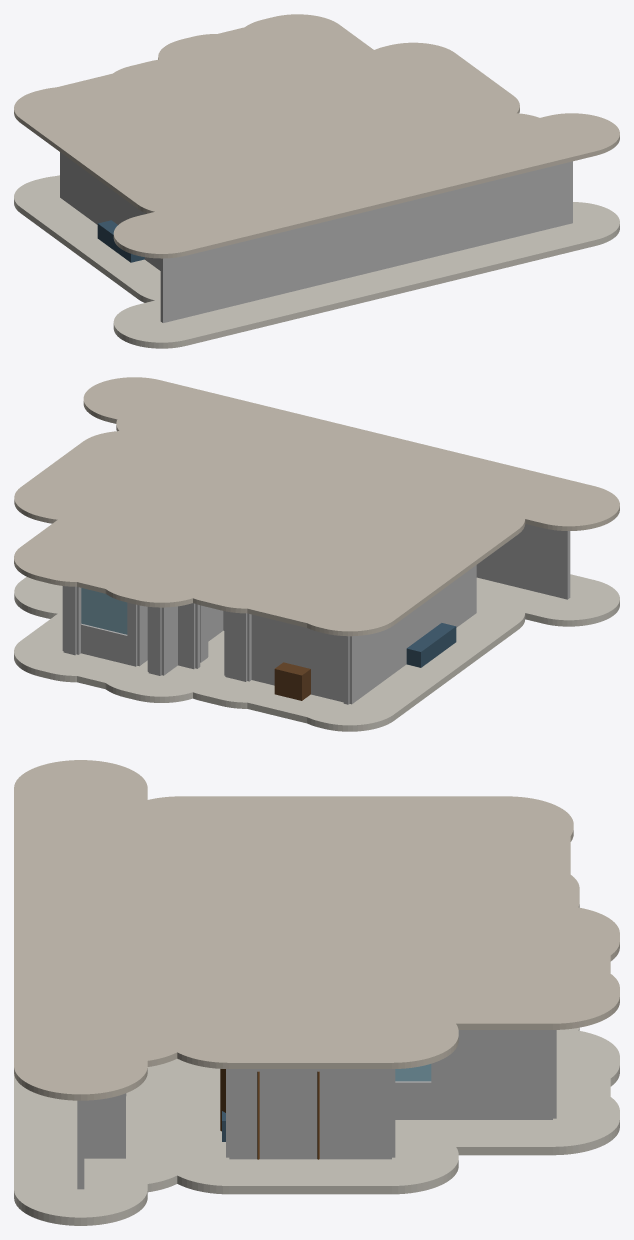
File: house_model.obj
The picture shows the model from 3 angles, top to bottom: view 1: azimuth 30°, elevation 25°; view 2: azimuth 150°, elevation 25°; view 3: azimuth 270°, elevation 25°; orthographic projection. The views are drawn at different scales.
Visible parts, largest first — view 1: geometry_1, geometry_0, geometry_384, geometry_385, geometry_373, geometry_386, geometry_393; view 2: geometry_1, geometry_0, geometry_373, geometry_161, geometry_384, geometry_116, geometry_177, geometry_114, geometry_393, geometry_391, geometry_357, geometry_356 (+4 smaller); view 3: geometry_1, geometry_0, geometry_313, geometry_340, geometry_337, geometry_381, geometry_382, geometry_386, geometry_383.
Boxes of the visible parts, x1=… form: geometry_1: x1=14, y1=14, x2=619, y2=258; geometry_0: x1=14, y1=175, x2=619, y2=348; geometry_384: x1=160, y1=185, x2=475, y2=322; geometry_385: x1=475, y1=173, x2=525, y2=246; geometry_373: x1=60, y1=152, x2=160, y2=270; geometry_386: x1=526, y1=161, x2=572, y2=234; geometry_393: x1=97, y1=220, x2=144, y2=262; geometry_1: x1=14, y1=377, x2=619, y2=636; geometry_0: x1=14, y1=574, x2=619, y2=731; geometry_373: x1=349, y1=565, x2=476, y2=704; geometry_161: x1=251, y1=614, x2=343, y2=702; geometry_384: x1=476, y1=524, x2=570, y2=599; geometry_116: x1=81, y1=588, x2=127, y2=634; geometry_177: x1=225, y1=611, x2=247, y2=681; geometry_114: x1=81, y1=623, x2=127, y2=664; geometry_393: x1=406, y1=623, x2=456, y2=667; geometry_391: x1=274, y1=662, x2=310, y2=700; geometry_357: x1=178, y1=603, x2=195, y2=669; geometry_356: x1=161, y1=606, x2=177, y2=675; geometry_1: x1=14, y1=760, x2=619, y2=1100; geometry_0: x1=14, y1=1027, x2=619, y2=1225; geometry_313: x1=229, y1=1069, x2=391, y2=1159; geometry_340: x1=431, y1=1030, x2=552, y2=1119; geometry_337: x1=395, y1=1081, x2=431, y2=1119; geometry_381: x1=111, y1=1093, x2=125, y2=1158; geometry_382: x1=96, y1=1097, x2=110, y2=1158; geometry_386: x1=77, y1=1100, x2=84, y2=1189; geometry_383: x1=84, y1=1100, x2=95, y2=1158.
Size of the model in its own units: 17.18 by 3.15 by 13.16.
